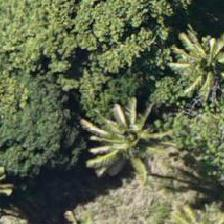coconut_tree: (74, 88, 164, 178), (164, 12, 223, 102)
